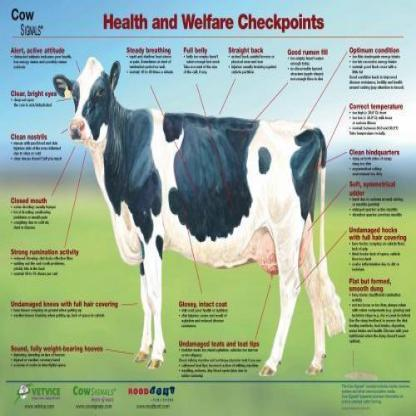cow: (52, 60, 327, 377)
